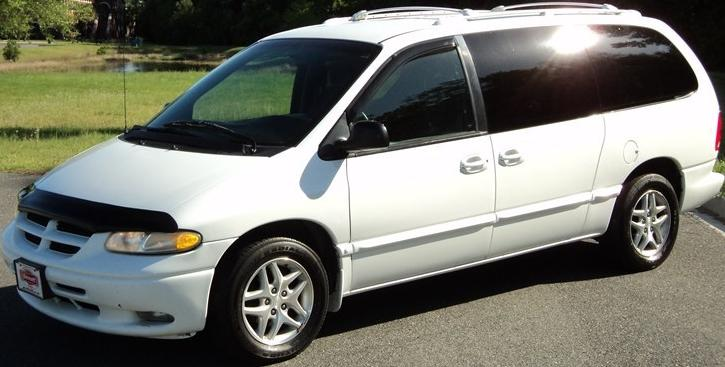front_view: (11, 189, 214, 329)
headlight: (97, 212, 211, 274)
side_glass: (351, 33, 695, 137)
